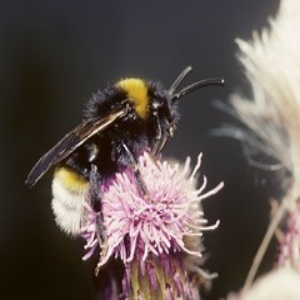bee: (26, 62, 228, 240)
